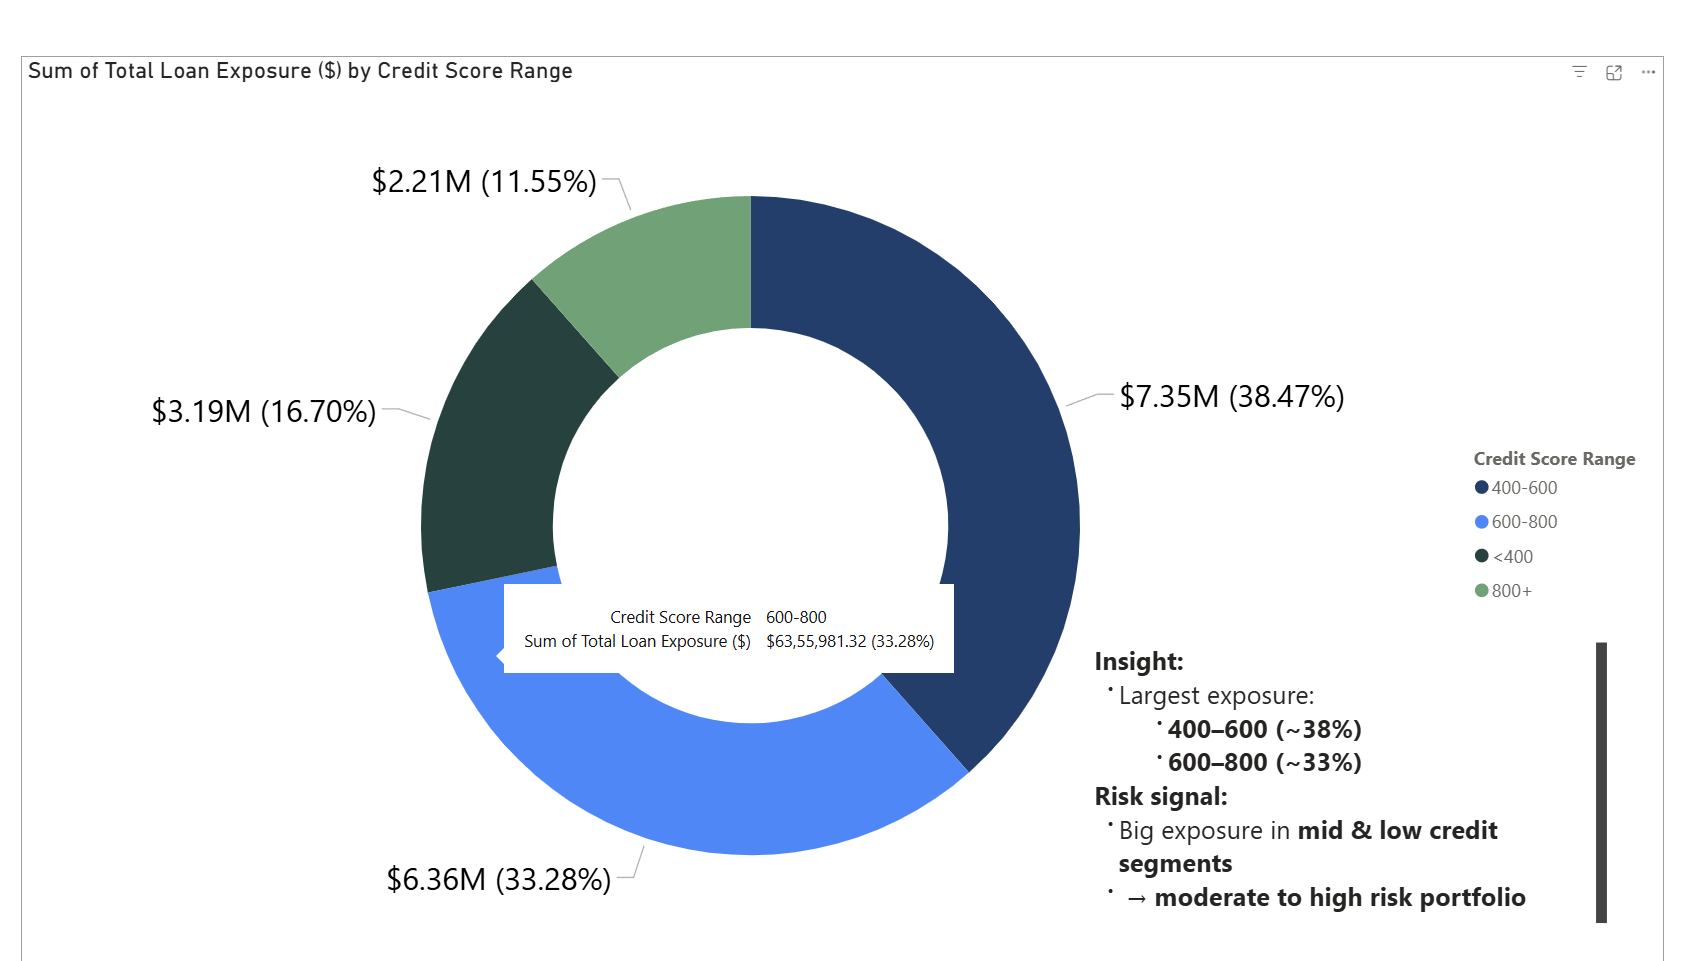

Layout of this report page (visuals, bound fields, positions):
{"tool":"powerbi","page":{"name":"page 4","canvas":[1280,720],"ordinal":4},"visuals":[{"type":"donutChart","fields":{"Category":["All Customer Transction.Credit Score Range"],"Y":["Sum(All Customer Transction.Loan Amount(USD))"]},"box":[26,47.6,1209,672.3],"z":0},{"type":"textbox","box":[810.8,474.6,387.4,221.4],"z":1}]}

Visuals, with their boxes on the page's 1280x720 design canvas (x1, y1, x2, y2). These are canvas units, not pixel positions in the 1685x961 screenshot, which may show the page scaled, cropped or inside an application window:
donutChart - All Customer Transction.Credit Score Range x Sum(All Customer Transction.Loan Amount(USD)): pyautogui.locateOnScreen(26, 48, 1235, 720)
textbox: pyautogui.locateOnScreen(811, 475, 1198, 696)
